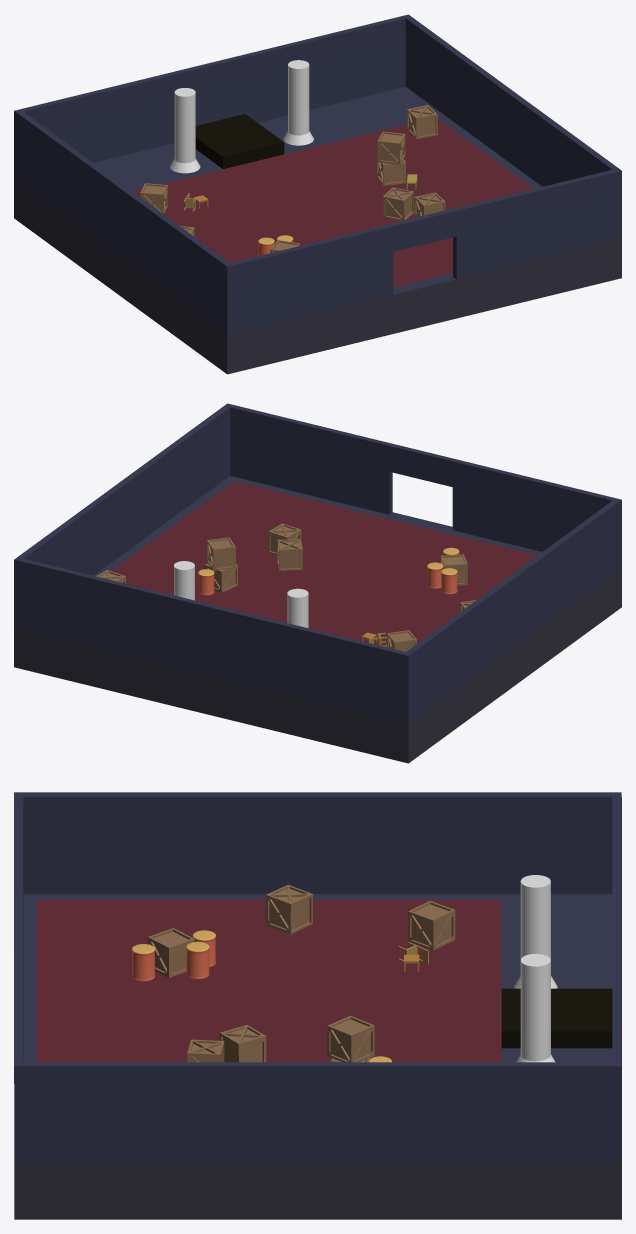
File: lvl1-7.fbx
3 views of the same model, one above another, from view 1: azimuth 30°, elevation 25°; view 2: azimuth 150°, elevation 25°; view 3: azimuth 270°, elevation 25° (orthographic). The views are drawn at different scales.
Visible parts, largest first — view 1: Cube.024, Cylinder.001, Cylinder.002, Cube.033, Cube.035, Cube.030, Cube.029, Cube.032, Cube.034; view 2: Cube.024, Cube.030, Cube.033, Cylinder.001, Cylinder.002, Cube.034, Cube.029, Cube.031, Cube.032; view 3: Cube.024, Cylinder.002, Cylinder.001, Cube.032, Cube.028, Cube.030, Cube.031, Cube.033, Cylinder.007, Cube.034, Cylinder.008.
Part boxes in pixels (<box>): Cube.024: <box>14,14,621,374</box>; Cylinder.001: <box>170,88,200,173</box>; Cylinder.002: <box>283,60,313,145</box>; Cube.033: <box>383,187,414,220</box>; Cube.035: <box>406,105,437,139</box>; Cube.030: <box>377,131,405,164</box>; Cube.029: <box>377,155,405,185</box>; Cube.032: <box>140,183,167,214</box>; Cube.034: <box>414,192,445,217</box>; Cube.024: <box>14,403,621,763</box>; Cube.030: <box>206,537,235,570</box>; Cube.033: <box>277,539,302,570</box>; Cylinder.001: <box>287,588,308,628</box>; Cylinder.002: <box>174,561,194,600</box>; Cube.034: <box>268,523,301,555</box>; Cube.029: <box>204,563,237,592</box>; Cube.031: <box>440,554,467,585</box>; Cube.032: <box>387,630,416,651</box>; Cube.024: <box>14,792,621,1219</box>; Cylinder.002: <box>516,954,555,1062</box>; Cylinder.001: <box>514,875,557,988</box>; Cube.032: <box>408,901,455,950</box>; Cube.028: <box>265,884,313,934</box>; Cube.030: <box>327,1015,374,1062</box>; Cube.031: <box>147,928,194,977</box>; Cube.033: <box>219,1025,266,1062</box>; Cylinder.007: <box>186,941,209,979</box>; Cube.034: <box>187,1039,224,1062</box>; Cylinder.008: <box>132,944,154,981</box>.
Size of the model in its own units: 3536 by 975 by 3314.
